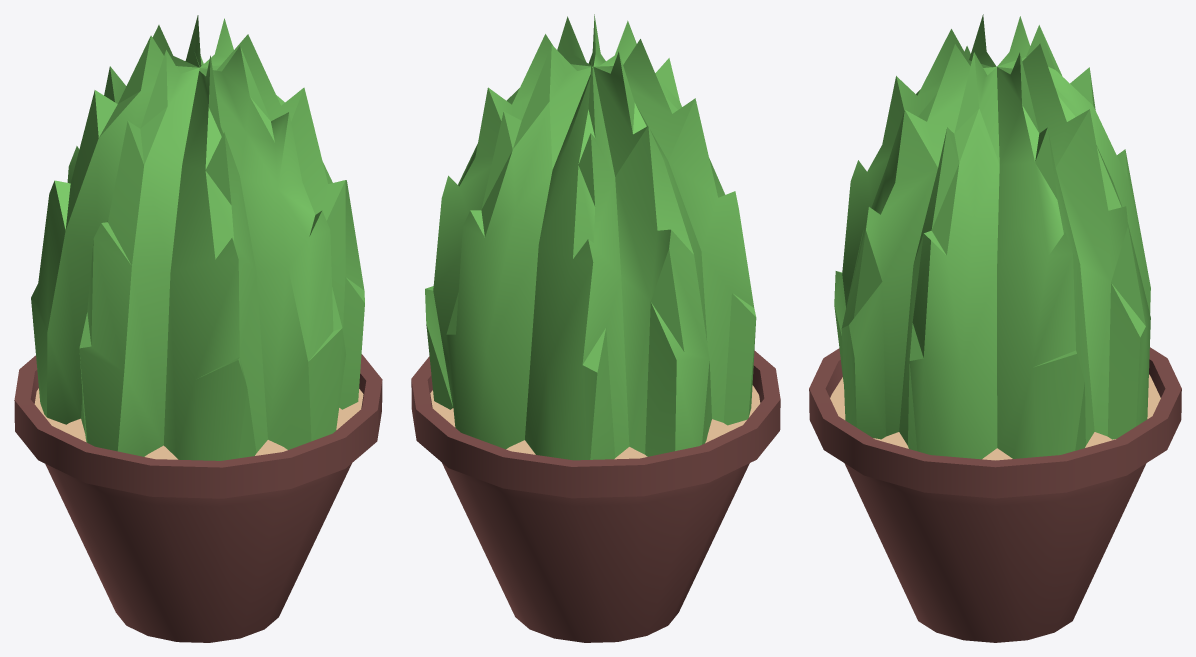
File: Cacto2.fbx
3 renders of one model, left to right at view 1: azimuth 30°, elevation 25°; view 2: azimuth 150°, elevation 25°; view 3: azimuth 270°, elevation 25°, orthographic.
Parts seen in each view (by area): view 1: Cacto2; view 2: Cacto2; view 3: Cacto2.
Part boxes in pixels (x1=…): Cacto2: x1=14, y1=15, x2=382, y2=642; Cacto2: x1=411, y1=14, x2=780, y2=642; Cacto2: x1=809, y1=14, x2=1181, y2=642.
Size of the model in its own units: 0.3803 by 0.6472 by 0.3803.
